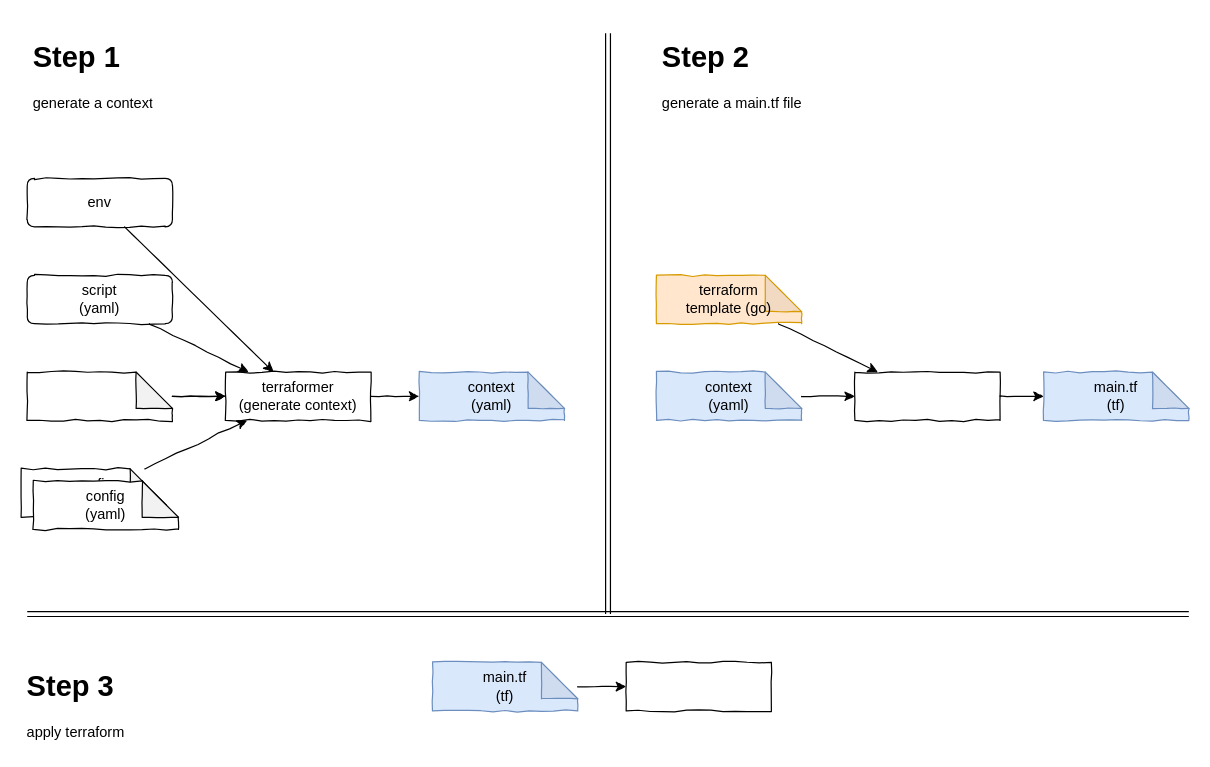
This 1210x767 diagram has some shape labels left out. The centre of each missing label's shape, as x and y in pixels:
"terraform (plan, apply, destroy)" belongs at pixel 698 686.
"terraform.tfstate (json)" belongs at pixel 99 395.
"terraformer (generate)" belongs at pixel 927 395.
